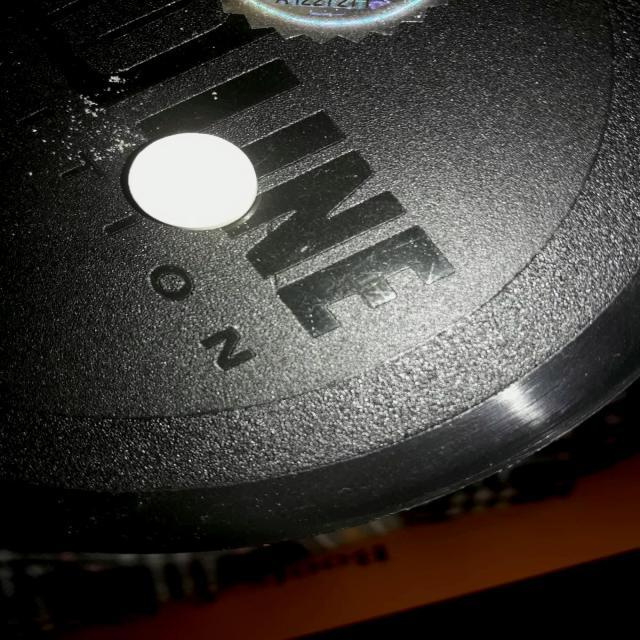pill: (129, 130, 267, 236)
